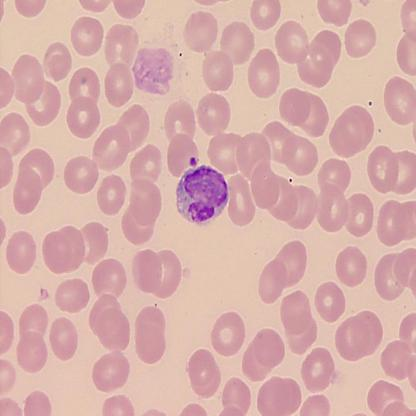Monocyte: (175, 162, 230, 226)
